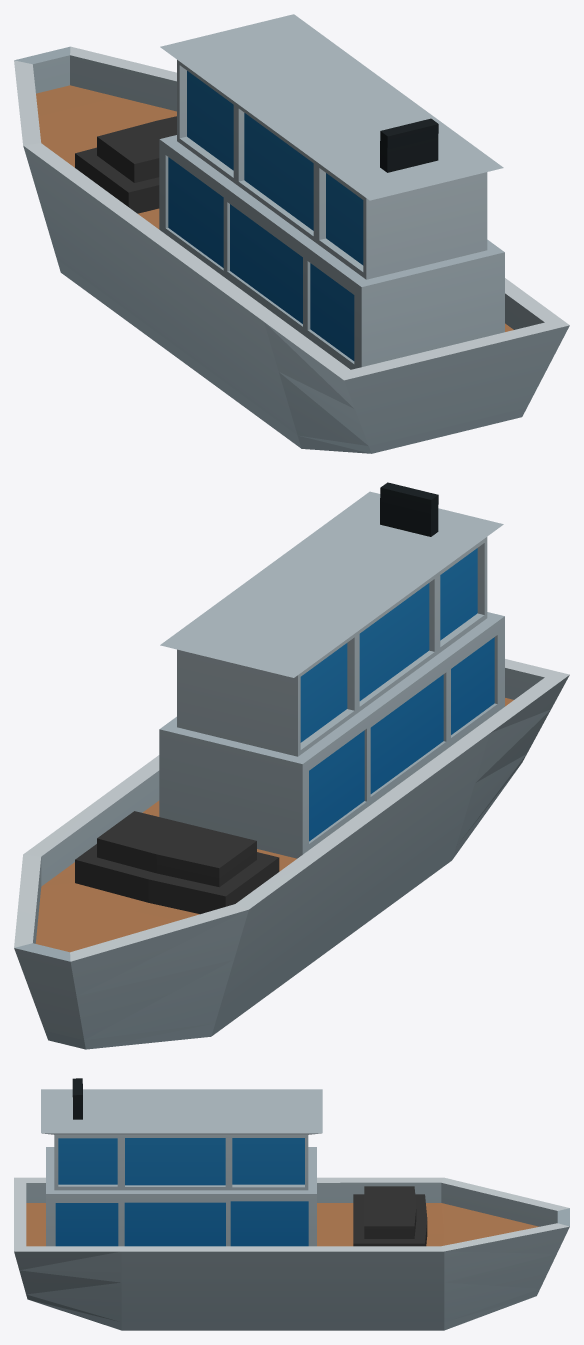
The model's file is hajo3.fbx.
3 views of the same model, one above another, from view 1: azimuth 30°, elevation 25°; view 2: azimuth 150°, elevation 25°; view 3: azimuth 270°, elevation 25° (orthographic). The views are drawn at different scales.
Visible parts, largest first — view 1: Cube; view 2: Cube; view 3: Cube.
Boxes of the visible parts, x1,y1,x2,y2 form: Cube: (14, 14, 569, 453); Cube: (14, 482, 569, 1049); Cube: (14, 1078, 569, 1330).
Bounding box in the file's own units: 1.3 × 1.8 × 4.13.
1 material, 1 textured.
